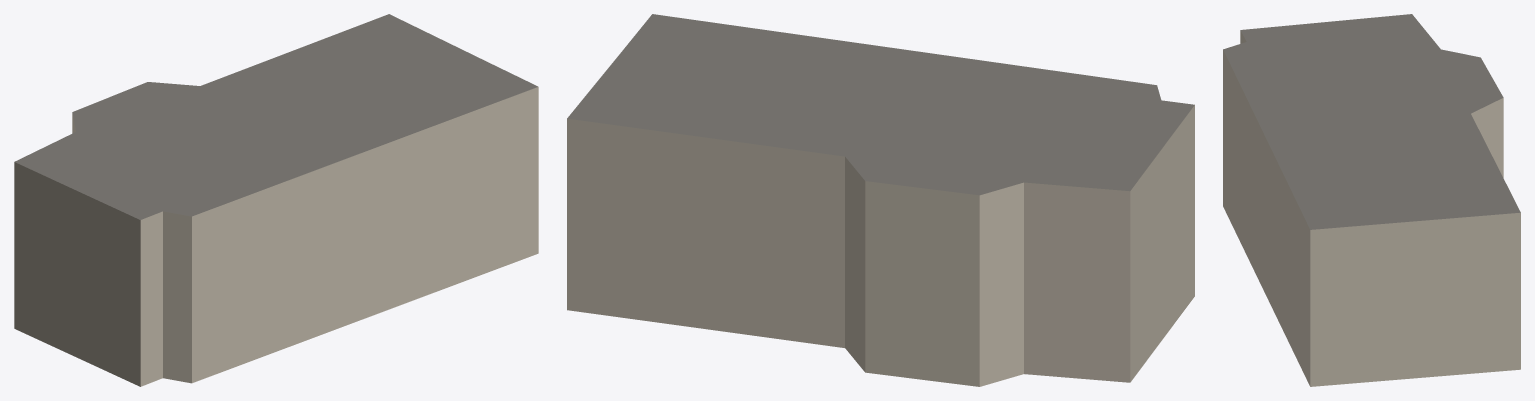
3 renders of one model, left to right at view 1: azimuth 30°, elevation 25°; view 2: azimuth 150°, elevation 25°; view 3: azimuth 270°, elevation 25°, orthographic. The views are drawn at different scales.
Visible parts, largest first — view 1: HP-w553893873; view 2: HP-w553893873; view 3: HP-w553893873.
Part boxes in pixels (x1=…): HP-w553893873: x1=14, y1=14, x2=538, y2=386; HP-w553893873: x1=567, y1=14, x2=1194, y2=386; HP-w553893873: x1=1223, y1=14, x2=1520, y2=386.
Size of the model in its own units: 35.4 by 12 by 20.63.
